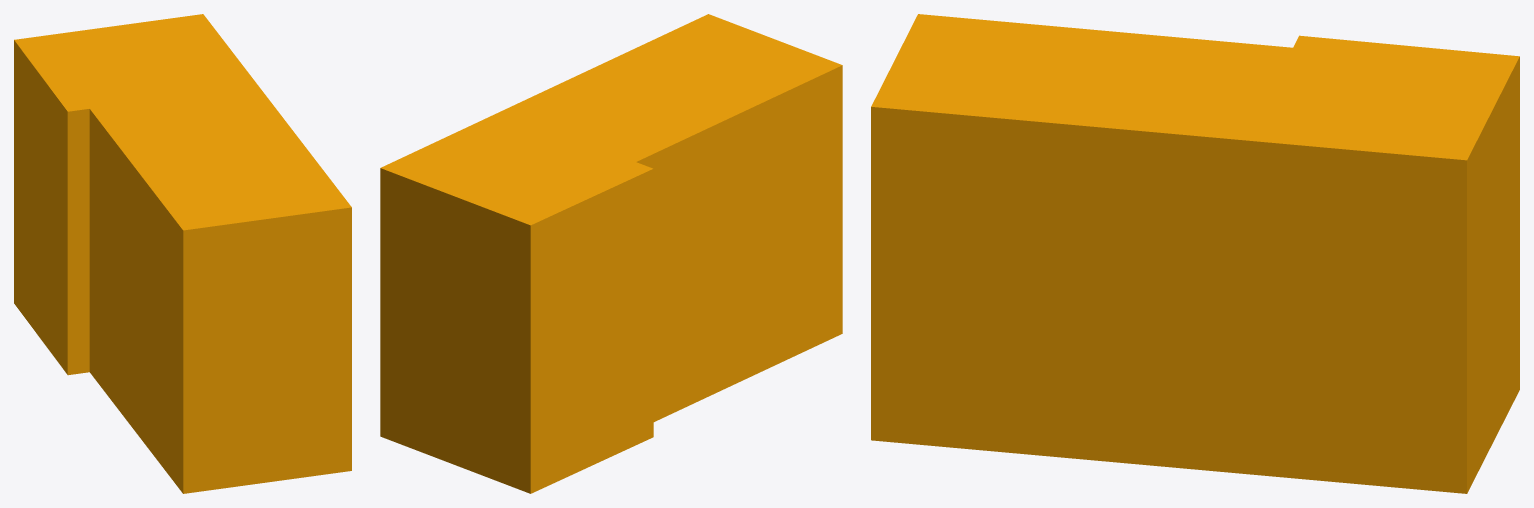
File: DEHB01ALn0001Opz.gltf
3 renders of one model, left to right at view 1: azimuth 30°, elevation 25°; view 2: azimuth 150°, elevation 25°; view 3: azimuth 270°, elevation 25°, orthographic. The views are drawn at different scales.
Visible parts, largest first — view 1: Z_UP; view 2: Z_UP; view 3: Z_UP.
Part boxes in pixels (x1,y1,x2,y2): Z_UP: [14, 14, 351, 493]; Z_UP: [380, 14, 842, 493]; Z_UP: [871, 14, 1519, 493].
Bounding box in the file's own units: 1.9 × 2.01 × 3.55.
